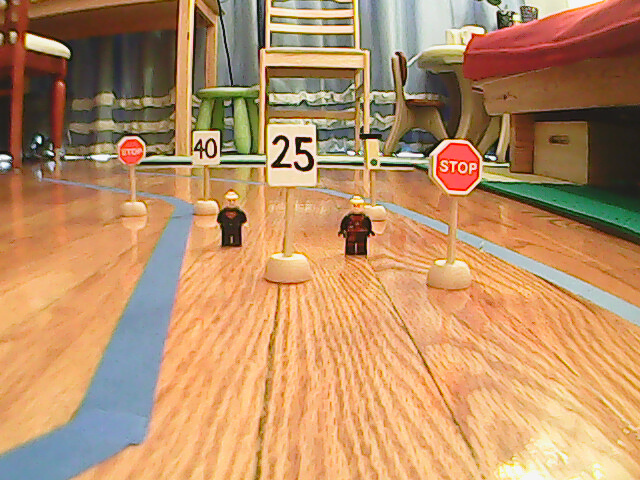Green Traffic Light: (359, 133, 384, 171)
Person: (334, 193, 378, 259), (216, 189, 249, 246)
Speed Limit 25: (266, 125, 316, 187)
Speed Limit 40: (191, 129, 220, 166)
Stop Sign: (427, 138, 486, 198), (116, 134, 146, 166)
